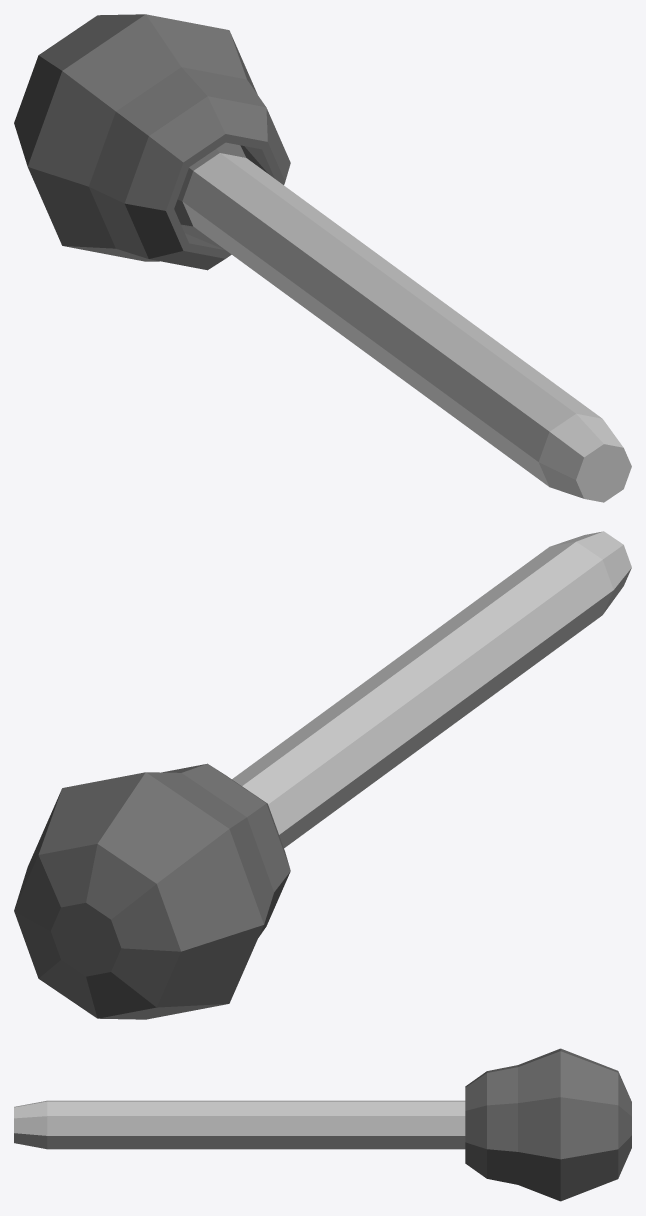
Rendered from Pipet.fbx.
3 views of the same model, one above another, from view 1: azimuth 30°, elevation 25°; view 2: azimuth 150°, elevation 25°; view 3: azimuth 270°, elevation 25° (orthographic). The views are drawn at different scales.
Visible parts, largest first — view 1: Sphere.002; view 2: Sphere.002; view 3: Sphere.002.
Part boxes in pixels (x1,y1,x2,y2): Sphere.002: (14, 14, 631, 502); Sphere.002: (14, 531, 631, 1019); Sphere.002: (14, 1048, 631, 1201).
Size of the model in its own units: 17.62 by 17.62 by 66.86.
2 materials, 2 textured.
